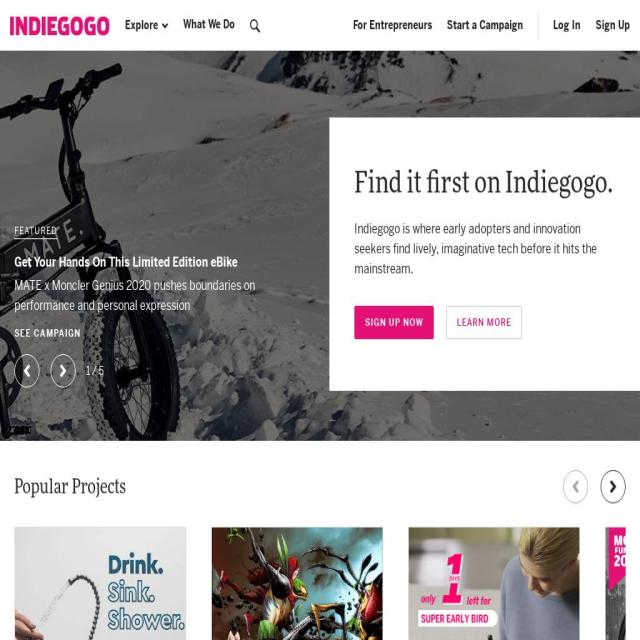button: (0, 51, 640, 441), (211, 527, 382, 640), (408, 527, 579, 640), (15, 527, 185, 640), (605, 527, 640, 640), (354, 306, 434, 339), (446, 306, 522, 339), (10, 16, 110, 32), (125, 16, 168, 32), (250, 16, 260, 32)
image: (0, 51, 640, 441), (211, 527, 382, 640), (408, 527, 579, 640), (15, 527, 185, 640), (605, 527, 640, 640), (10, 15, 110, 36), (250, 18, 260, 32), (22, 364, 32, 378), (58, 364, 68, 378), (570, 480, 580, 493), (608, 480, 618, 493), (162, 21, 168, 30)
link: (353, 17, 432, 34), (447, 17, 523, 34), (183, 16, 235, 32), (596, 17, 630, 34), (553, 17, 581, 34)
text: (354, 219, 615, 279), (14, 252, 626, 272), (354, 161, 615, 206), (14, 276, 264, 316), (14, 326, 626, 341), (15, 478, 126, 498), (15, 223, 58, 239), (125, 16, 161, 32), (86, 362, 108, 380)
